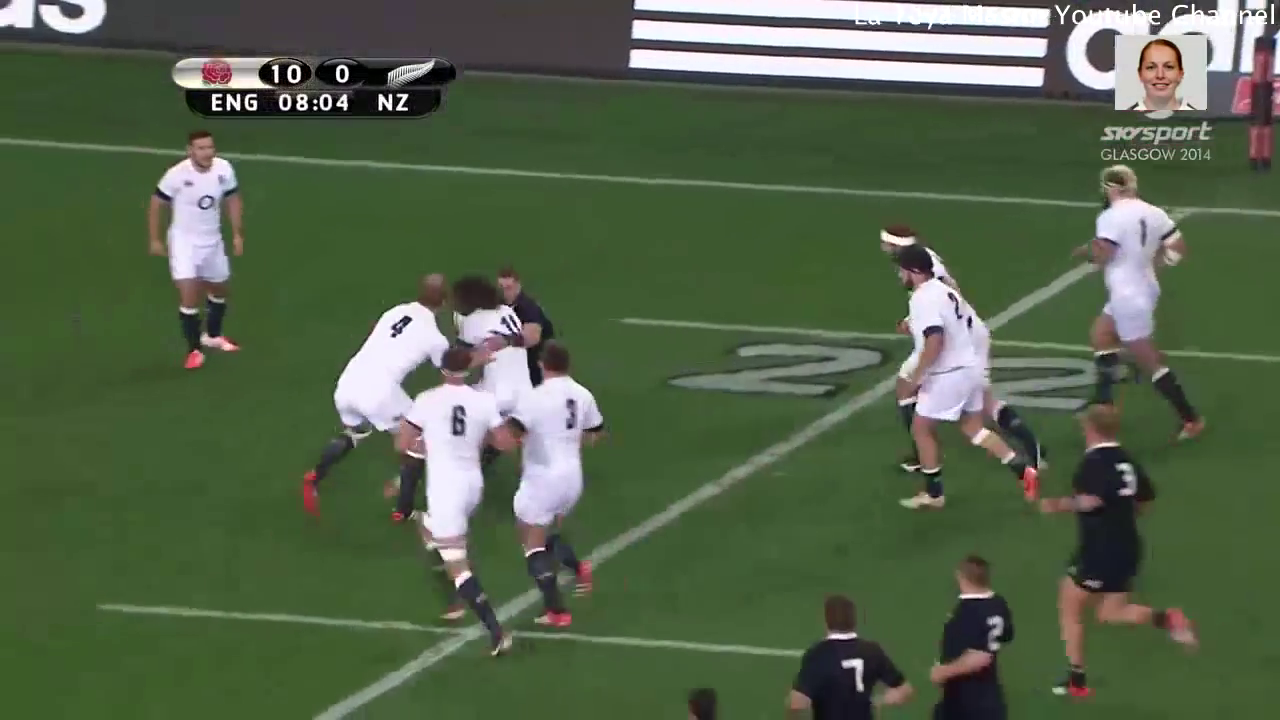player: (1026, 400, 1207, 707), (880, 239, 1054, 524), (296, 265, 452, 532), (1073, 160, 1212, 456), (393, 339, 519, 658), (493, 333, 620, 643), (141, 124, 257, 378), (779, 585, 923, 720), (923, 549, 1024, 720), (442, 270, 531, 436), (493, 256, 566, 387)
